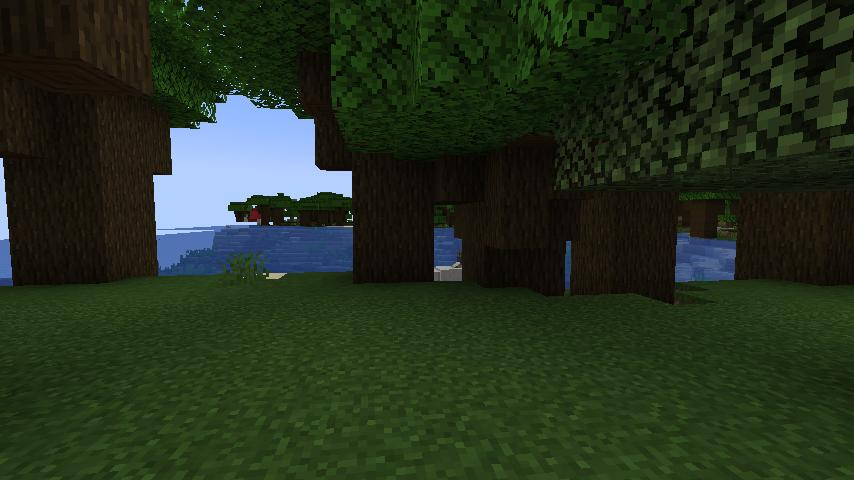goat: (434, 248, 462, 281)
